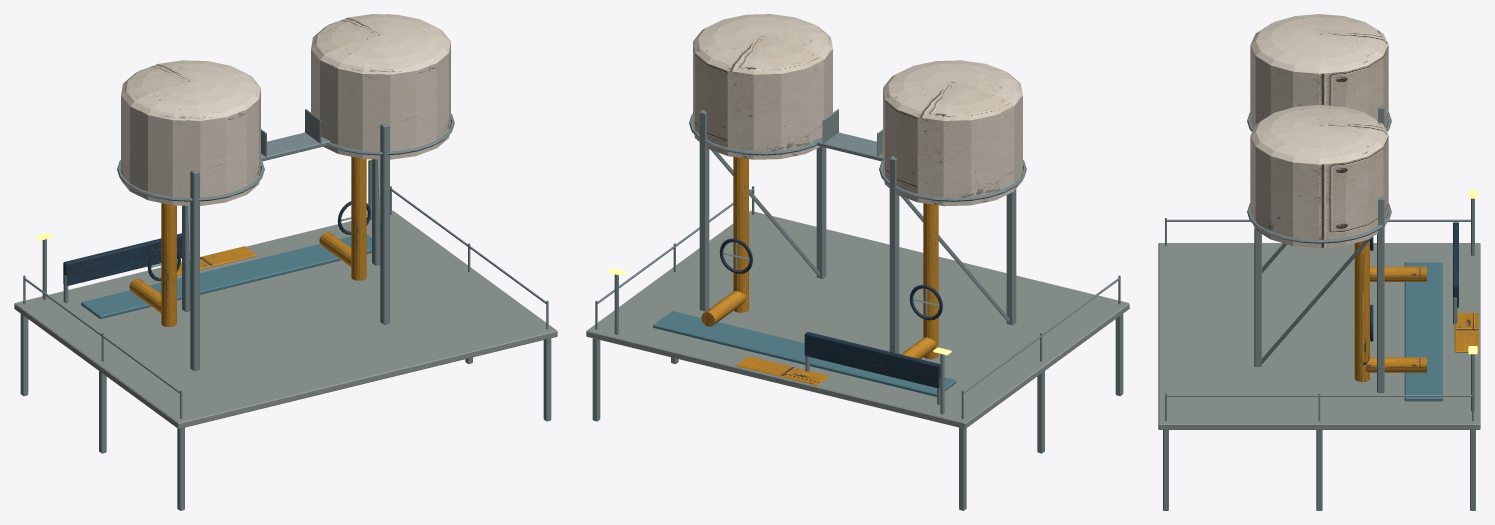
File: ascension.glb
3 views of the same model, side by side, from view 1: azimuth 30°, elevation 25°; view 2: azimuth 150°, elevation 25°; view 3: azimuth 270°, elevation 25° (orthographic). The views are drawn at different scales.
Visible parts, largest first — view 1: static_signature_deck, static_signature_paint, static_signature_steel, static_signature_glass; view 2: static_signature_deck, static_signature_paint, static_signature_steel, static_signature_glass; view 3: static_signature_deck, static_signature_paint, static_signature_steel, static_signature_glass.
Part boxes in pixels (x1=…): static_signature_deck: x1=14, y1=210, x2=557, y2=428; static_signature_paint: x1=63, y1=14, x2=450, y2=326; static_signature_steel: x1=20, y1=109, x2=551, y2=510; static_signature_glass: x1=81, y1=234, x2=371, y2=318; static_signature_deck: x1=586, y1=210, x2=1129, y2=428; static_signature_paint: x1=693, y1=14, x2=1022, y2=388; static_signature_steel: x1=592, y1=109, x2=1123, y2=510; static_signature_glass: x1=653, y1=311, x2=956, y2=396; static_signature_deck: x1=1158, y1=243, x2=1480, y2=429; static_signature_paint: x1=1250, y1=14, x2=1478, y2=381; static_signature_steel: x1=1163, y1=105, x2=1475, y2=510; static_signature_glass: x1=1404, y1=262, x2=1442, y2=401.
Bounding box in the file's own units: 28 × 24.6 × 21.
Materials: 5 (1 with a texture image).
